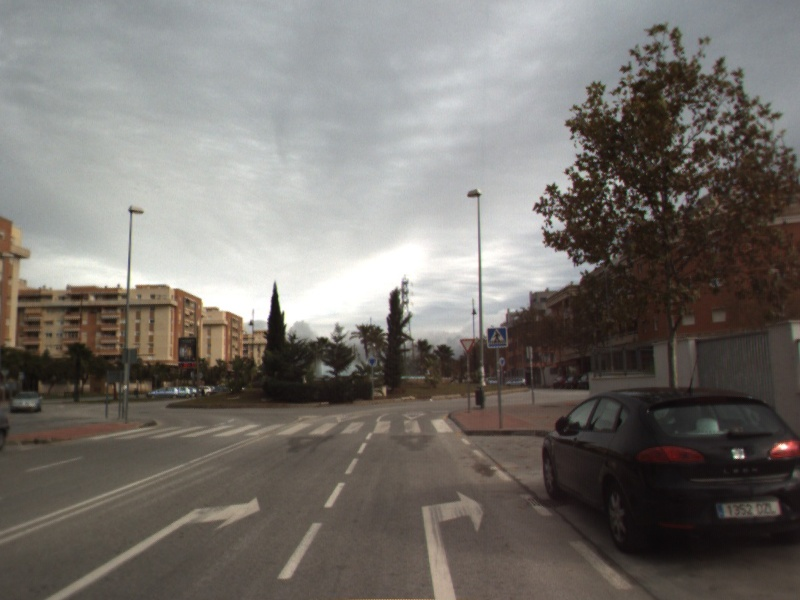RIGHT: (40, 494, 262, 600), (419, 488, 487, 600)
